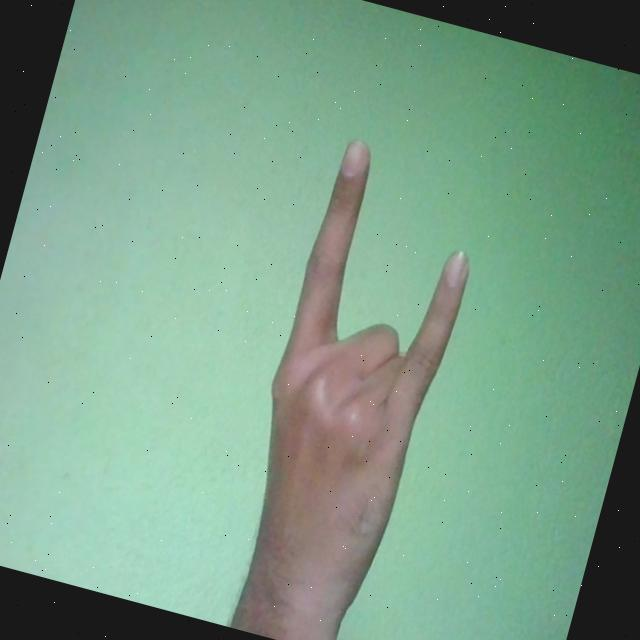open Plam: (211, 133, 493, 640)
